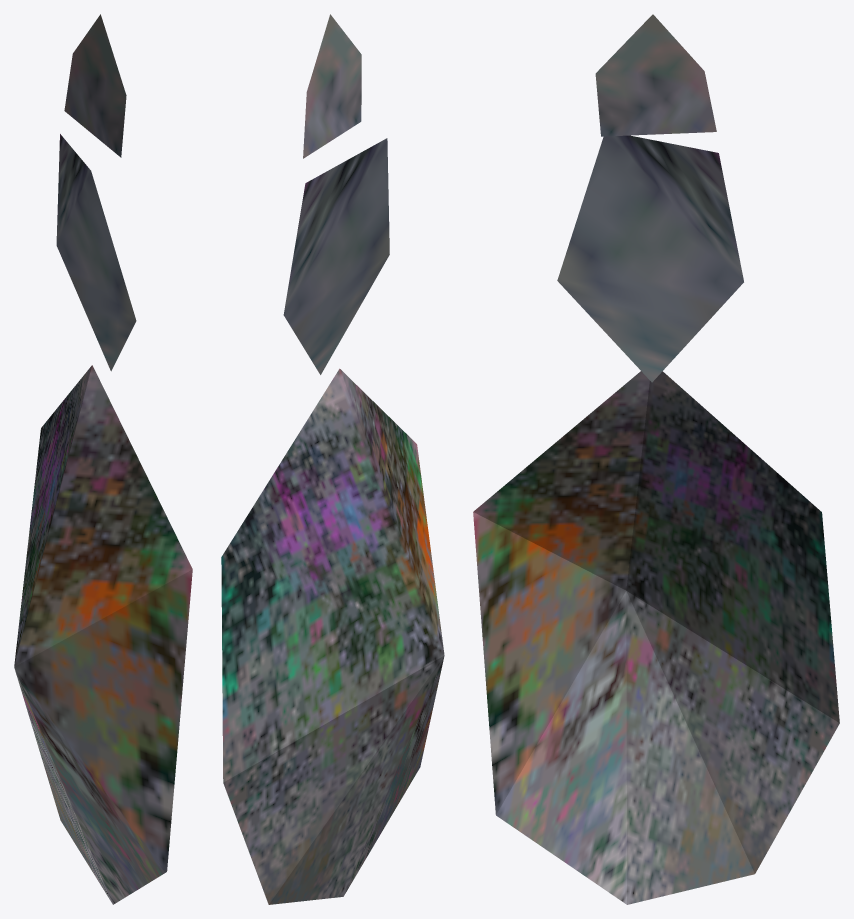
Rendered from earring_s02_l2.fbx.
3 renders of one model, left to right at view 1: azimuth 30°, elevation 25°; view 2: azimuth 150°, elevation 25°; view 3: azimuth 270°, elevation 25°, orthographic.
Visible parts, largest first — view 1: mesh_node; view 2: mesh_node; view 3: mesh_node.
Boxes of the visible parts, box(x1,y1,x2,y2) form: mesh_node: box(14, 14, 192, 904); mesh_node: box(221, 14, 444, 904); mesh_node: box(473, 14, 839, 904).
Bounding box in the file's own units: 0.0115 × 0.0786 × 0.0293.
